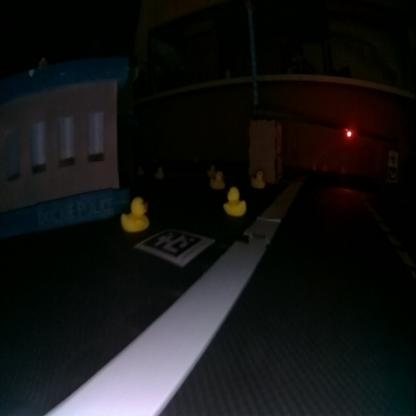Duckie: (121, 198, 147, 230), (224, 188, 246, 213), (252, 171, 264, 188), (211, 172, 224, 187)
QR code: (137, 230, 213, 263)
Traffic light: (346, 129, 352, 137)
